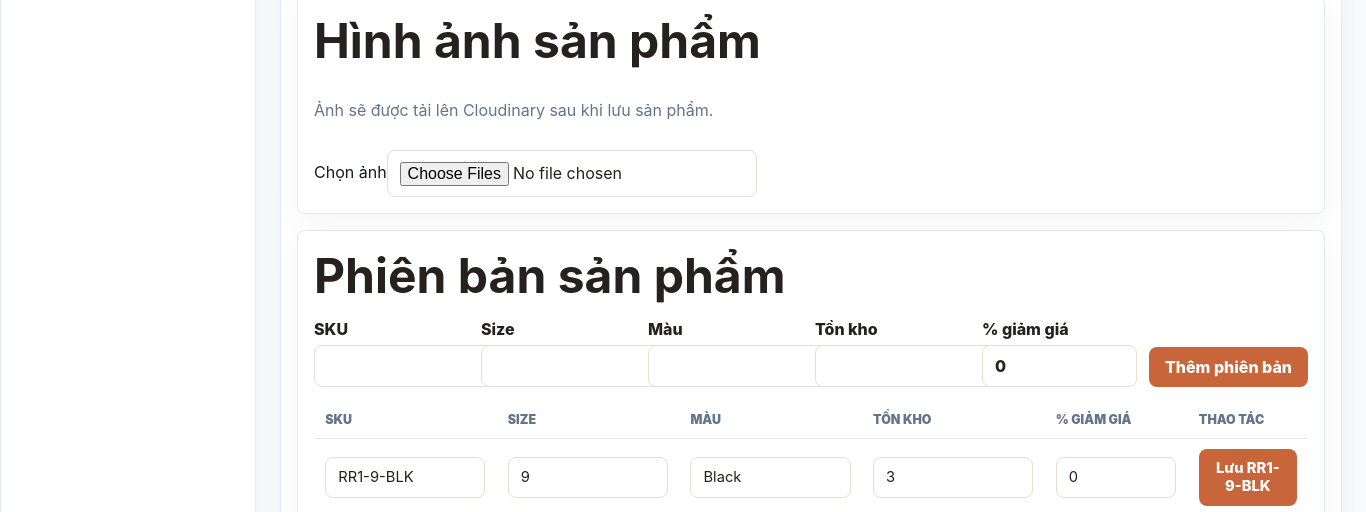
Test: admin flow › renders and updates existing variants on the product edit form
(page scrolled)
Check: the column heading "% giảm giá" is shown, box [1044, 402, 1188, 438]
Replace the text in the number field named "Tồn kho cho RR1-9-BLK" with "9": [953, 477] box [873, 457, 1033, 498]
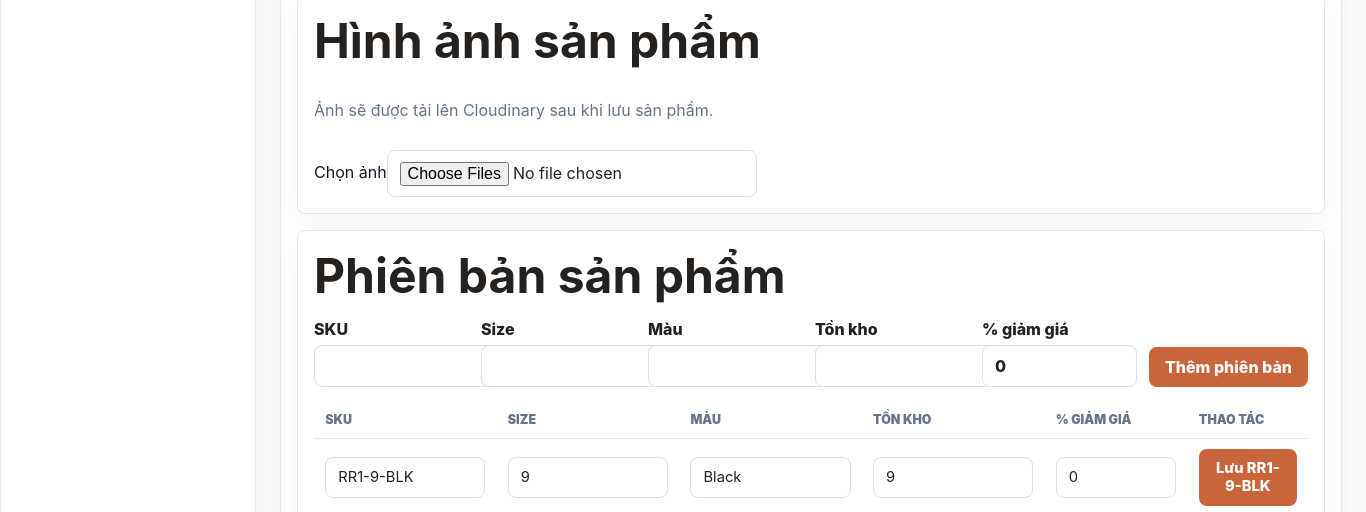
Replace the text in the number field named "% giảm giá cho RR1-9-BLK" with "12.5": [1116, 477] box [1056, 457, 1176, 498]
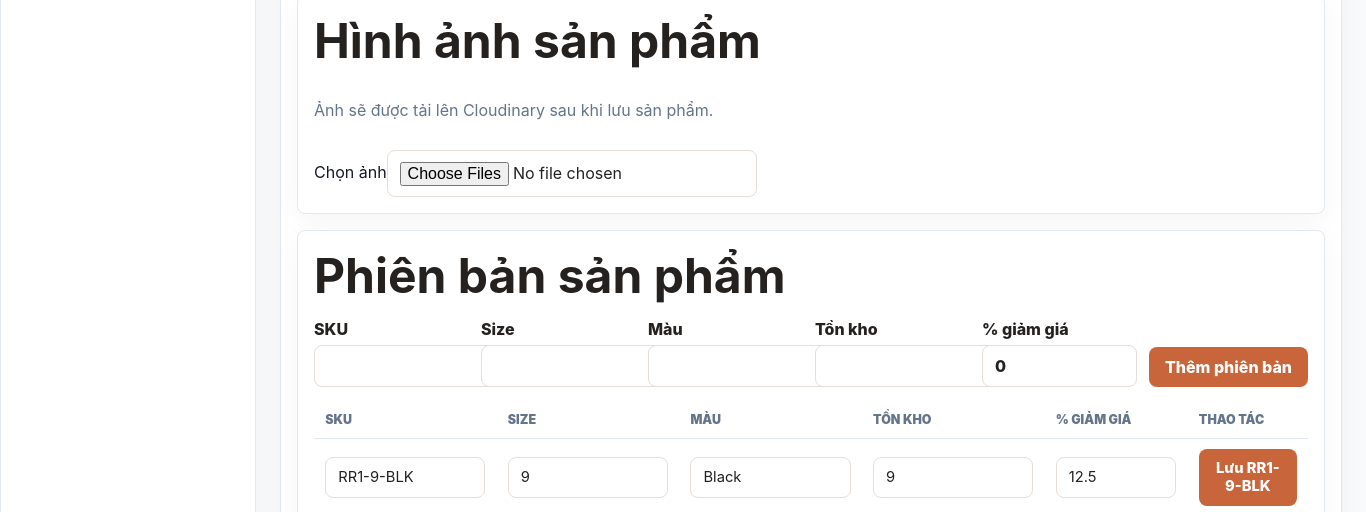
Click the button "Lưu RR1-9-BLK": [1248, 477] box [1199, 449, 1297, 506]
(page scrolled)
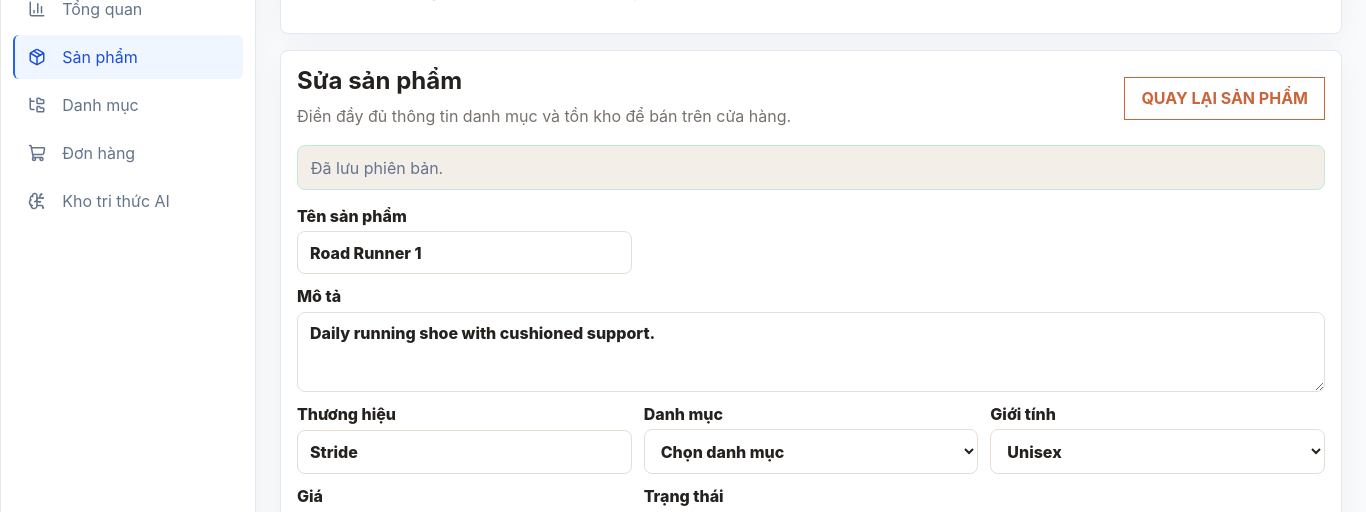
Check: the text "Đã lưu phiên bản." is shown, box [297, 145, 1325, 190]
